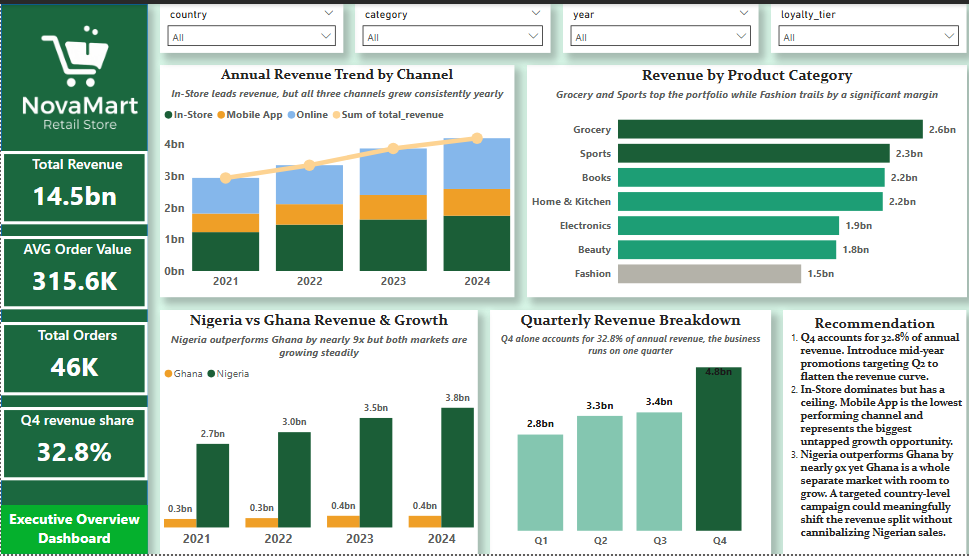

This screenshot's page, from the dashboard's own definition file:
{"tool":"powerbi","page":{"name":"Executive Overview","canvas":[1280,720],"ordinal":0},"visuals":[{"type":"shape","box":[0,0,192,720],"z":0},{"type":"lineStackedColumnComboChart","title":"Annual Revenue Trend by Channel","fields":{"Category":["date.year"],"Y":["Sum(order items.total_revenue)"],"Series":["orders.sales_channel"],"Y2":["Sum(order items.total_revenue)"]},"box":[208,80,464,304],"z":1000},{"type":"clusteredBarChart","title":"Revenue by Product Category","fields":{"Y":["Sum(order items.total_revenue)"],"Category":["product.category"]},"box":[688,80,576,304],"z":2000},{"type":"columnChart","title":"Quarterly Revenue Breakdown","fields":{"Category":["date.Qut"],"Y":["order items.Total Revenue"]},"box":[640,400,368,320],"z":3000},{"type":"clusteredColumnChart","title":"Nigeria vs Ghana Revenue & Growth","fields":{"Y":["Sum(order items.total_revenue)"],"Series":["location.country"],"Category":["date.year"]},"box":[208,400,416,320],"z":4000},{"type":"image","box":[0,0,208,192],"z":5000},{"type":"card","title":"Total Revenue","fields":{"Values":["order items.Total Revenue"]},"box":[0,192,192,96],"z":6000},{"type":"card","title":"AVG Order Value","fields":{"Values":["order items.Avg Order Value"]},"box":[0,304,192,96],"z":7000},{"type":"card","title":"Total Orders","fields":{"Values":["order items.Total Orders"]},"box":[0,416,192,96],"z":8000},{"type":"card","title":"Q4 revenue share","fields":{"Values":["Payments.Q4 Revenue Share"]},"box":[0,528,192,96],"z":9000},{"type":"textbox","box":[0,656,192,64],"z":10000},{"type":"textbox","box":[1024,400,240,320],"z":11000},{"type":"slicer","fields":{"Values":["product.category"]},"box":[464,0,256,64],"z":12000},{"type":"slicer","fields":{"Values":["location.country"]},"box":[208,0,240,64],"z":13000},{"type":"slicer","fields":{"Values":["date.year"]},"box":[736,0,256,64],"z":14000},{"type":"slicer","fields":{"Values":["customers.loyalty_tier"]},"box":[1008,0,256,64],"z":15000}]}

Visuals, with their boxes in screenshot pixels (x1, y1, x2, y2), scaled from the page's 1280x720 canvas onto the 969x556 screenshot:
shape: 0,0,145,555
"Annual Revenue Trend by Channel" lineStackedColumnComboChart: 157,62,509,297
"Revenue by Product Category" clusteredBarChart: 521,62,957,297
"Quarterly Revenue Breakdown" columnChart: 484,309,763,555
"Nigeria vs Ghana Revenue & Growth" clusteredColumnChart: 157,309,472,555
image: 0,0,157,148
"Total Revenue" card: 0,148,145,222
"AVG Order Value" card: 0,235,145,309
"Total Orders" card: 0,321,145,395
"Q4 revenue share" card: 0,408,145,482
textbox: 0,507,145,555
textbox: 775,309,957,555
slicer - product.category: 351,0,545,49
slicer - location.country: 157,0,339,49
slicer - date.year: 557,0,751,49
slicer - customers.loyalty_tier: 763,0,957,49
